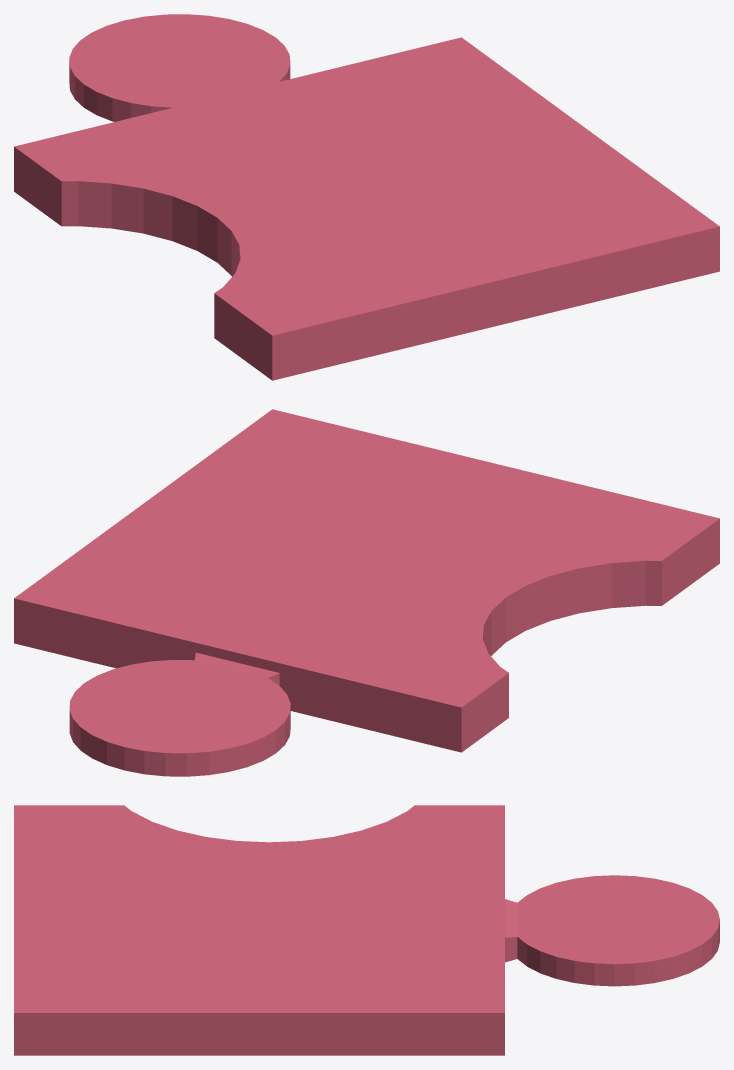
File: PuzzlePiece.fbx
3 views of the same model, one above another, from view 1: azimuth 30°, elevation 25°; view 2: azimuth 150°, elevation 25°; view 3: azimuth 270°, elevation 25° (orthographic). The views are drawn at different scales.
Parts seen in each view (by area): view 1: Cube.006; view 2: Cube.006; view 3: Cube.006.
Boxes of the visible parts, bbox=[...] form: Cube.006: bbox=[14, 14, 719, 380]; Cube.006: bbox=[14, 409, 719, 776]; Cube.006: bbox=[14, 805, 719, 1055].
Bounding box in the file's own units: 170 × 16.31 × 244.
